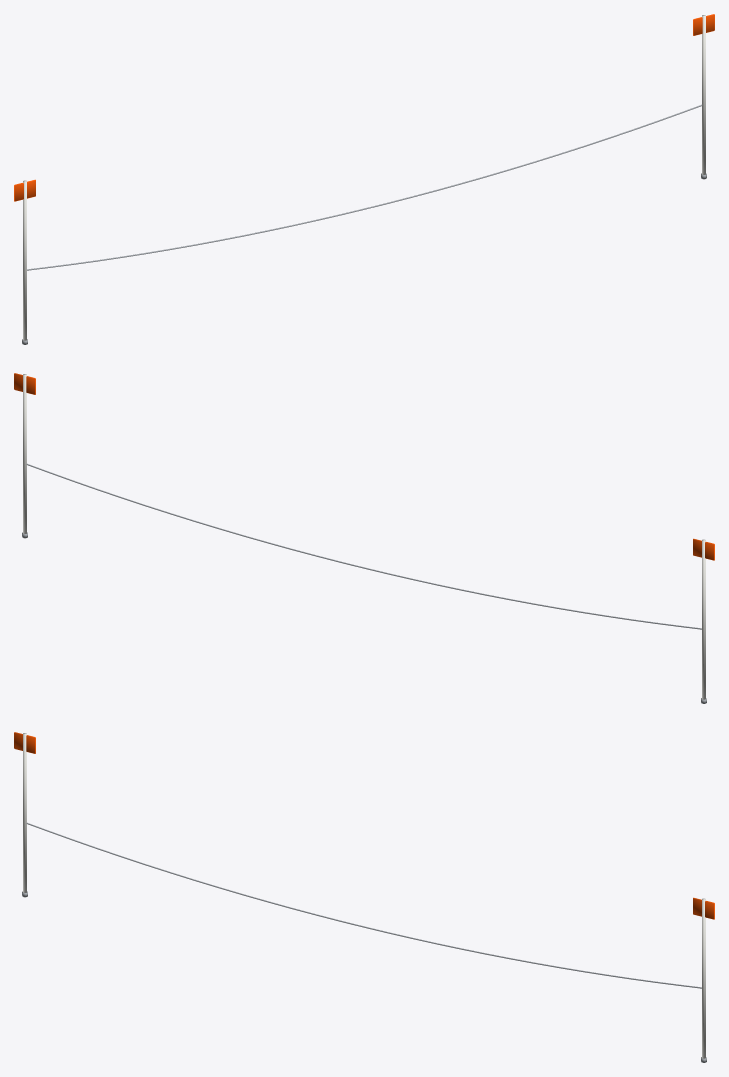
The model's file is chain_set.glb.
3 views of the same model, one above another, from view 1: azimuth 30°, elevation 25°; view 2: azimuth 150°, elevation 25°; view 3: azimuth 330°, elevation 25° (orthographic).
Parts seen in each view (by area): view 1: chain_set__prop_steel, chain_set__prop_white, chain_set__prop_orange; view 2: chain_set__prop_steel, chain_set__prop_white, chain_set__prop_orange; view 3: chain_set__prop_steel, chain_set__prop_white, chain_set__prop_orange.
Boxes of the visible parts, x1=… form: chain_set__prop_steel: x1=22, y1=104, x2=706, y2=344; chain_set__prop_white: x1=23, y1=15, x2=705, y2=340; chain_set__prop_orange: x1=14, y1=14, x2=714, y2=201; chain_set__prop_steel: x1=22, y1=463, x2=706, y2=703; chain_set__prop_white: x1=23, y1=374, x2=705, y2=699; chain_set__prop_orange: x1=14, y1=373, x2=714, y2=560; chain_set__prop_steel: x1=22, y1=822, x2=706, y2=1062; chain_set__prop_white: x1=23, y1=733, x2=705, y2=1058; chain_set__prop_orange: x1=14, y1=732, x2=714, y2=919.
Bounding box in the file's own units: 9.49 × 2.1 × 0.07.
